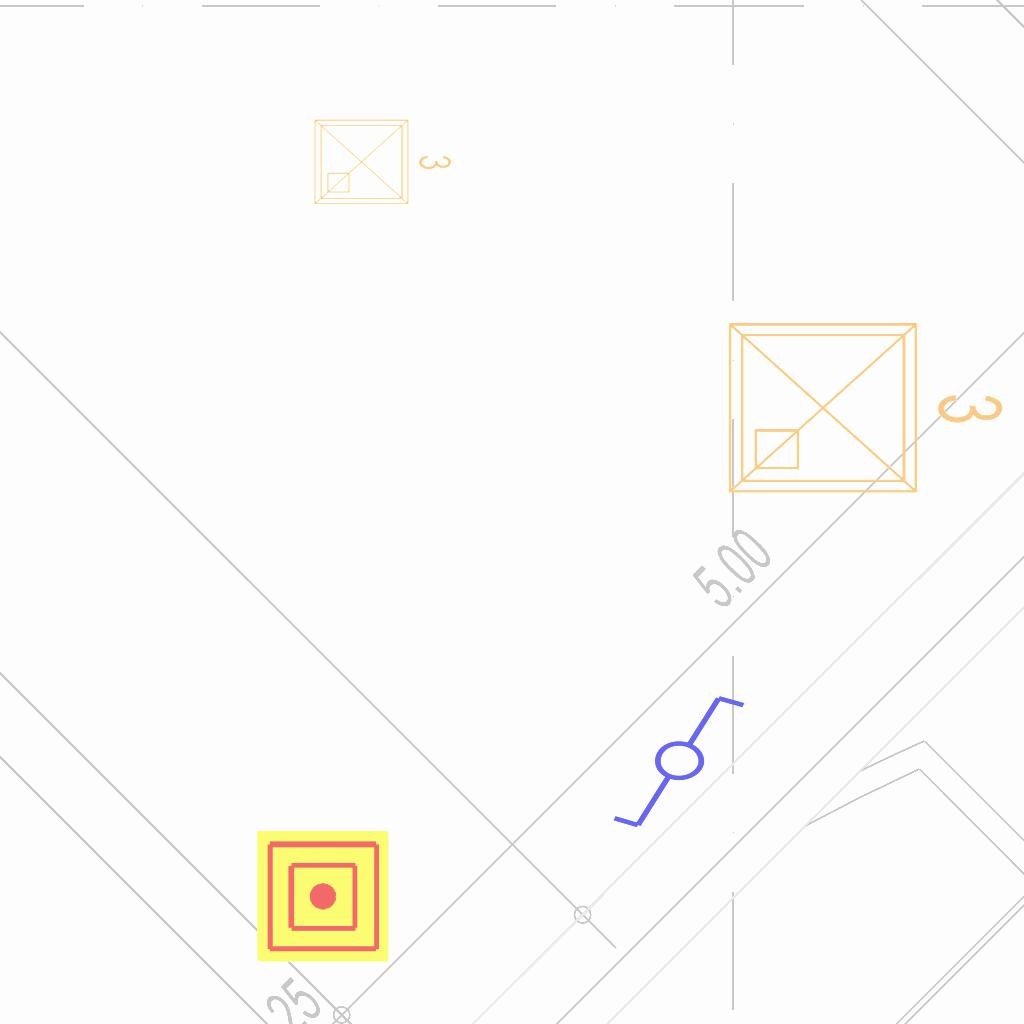Einbaudownlights_LED_Konferenzraeume: (714, 300, 1014, 508), (307, 108, 457, 212)
NAM-Nichtautomatischer_Melder: (257, 830, 389, 962)
Wechselschalter: (609, 691, 766, 835)
